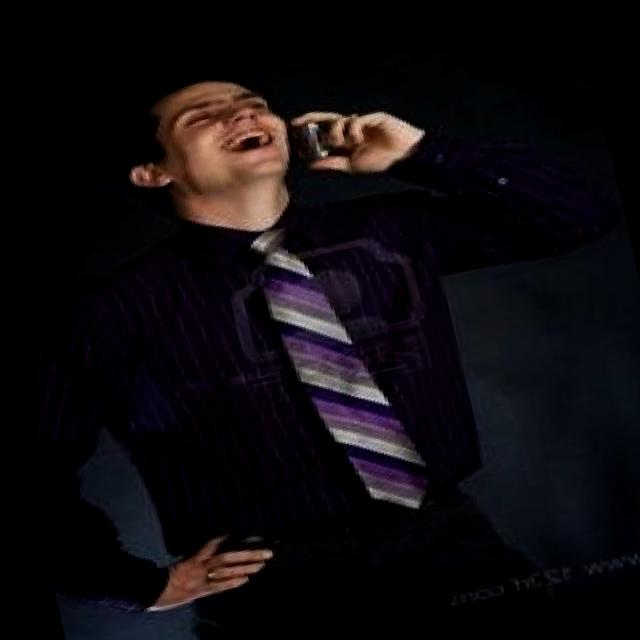no_vest: (50, 157, 512, 580)
